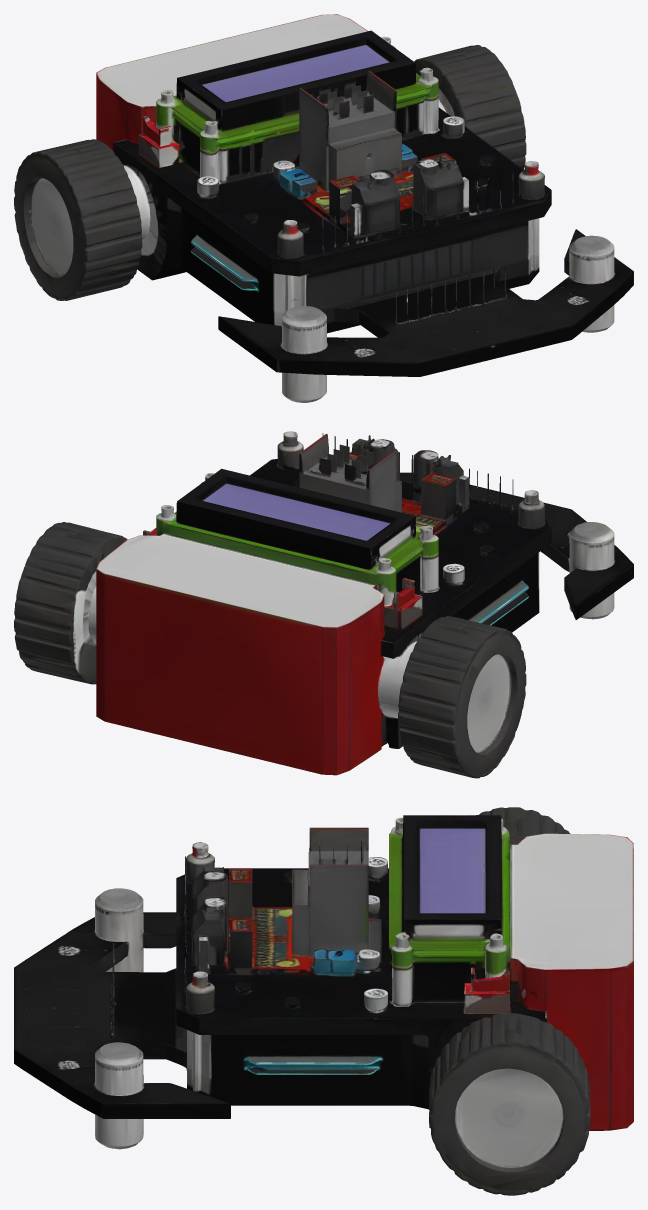
3 views of the same model, one above another, from view 1: azimuth 30°, elevation 25°; view 2: azimuth 150°, elevation 25°; view 3: azimuth 270°, elevation 25° (orthographic). The views are drawn at different scales.
Parts seen in each view (by area): view 1: model; view 2: model; view 3: model.
Boxes of the visible parts, left/top/right/bottom form: model: left=14, top=14, right=633, bottom=402; model: left=14, top=431, right=633, bottom=778; model: left=14, top=807, right=633, bottom=1195.
Bounding box in the file's own units: 1.72 × 0.7842 × 1.9.
1 material, 1 textured.
